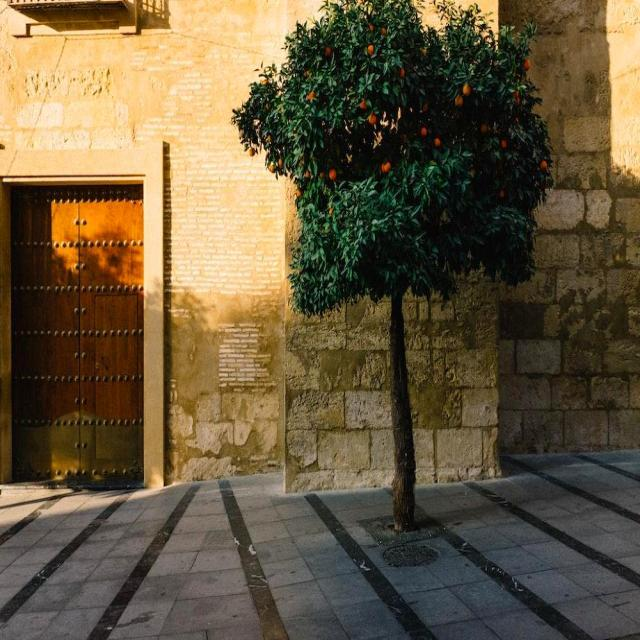Jeruk Sudah Matang: (454, 94, 464, 108), (463, 81, 471, 97), (329, 168, 337, 180), (369, 113, 377, 124), (360, 98, 368, 109), (524, 58, 530, 72), (296, 188, 304, 198), (480, 122, 488, 132), (368, 44, 374, 56), (308, 90, 315, 100), (384, 162, 391, 172), (434, 137, 441, 147), (501, 140, 508, 149), (368, 22, 374, 32), (278, 158, 284, 168), (270, 165, 276, 175), (540, 160, 546, 170), (381, 27, 388, 35), (249, 148, 256, 156), (304, 170, 311, 178), (326, 46, 332, 55), (421, 126, 426, 136), (424, 102, 428, 114), (499, 190, 505, 198), (400, 67, 404, 78), (298, 160, 304, 167), (513, 91, 519, 98), (239, 130, 244, 138), (471, 168, 476, 176), (268, 135, 272, 144), (382, 162, 385, 173), (266, 104, 270, 112), (516, 98, 520, 106), (263, 80, 268, 86), (328, 209, 334, 214), (320, 172, 324, 178), (515, 118, 519, 124), (306, 71, 310, 76)
